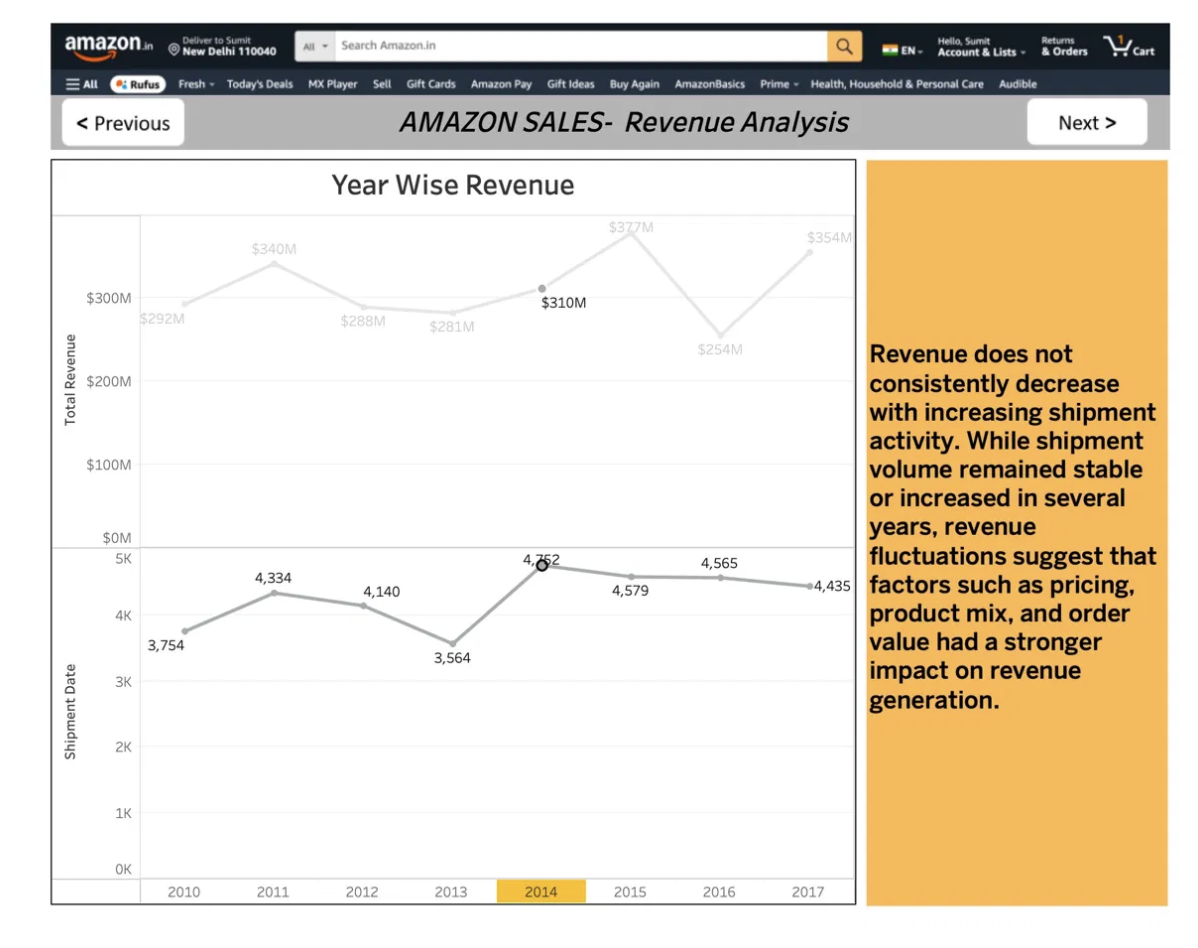

Layout of this report page (visuals, bound fields, positions):
{"tool":"tableau","page":{"name":"Revenue Analysis","canvas":[1000,800],"ordinal":3},"visuals":[{"type":"image","param":"/Users/sumitbhandari/Desktop/Screenshot 2026-05-27 at 1.45.00 PM.png","box":[8,5,981,70]},{"type":"blank","box":[8,68,981,48]},{"type":"dashboard-object","box":[9,70,126,48]},{"type":"text","box":[252,70,518,41]},{"type":"dashboard-object","box":[841,70,151,47]},{"type":"worksheet","title":"Sheet 11","mark":"Automatic","rows":["Total Revenue","Calculation_4108949745565698"],"cols":["Ship Date"],"box":[8,124,706,653]},{"type":"text","box":[723,125,264,653]}]}

Visuals, with their boxes on the page's 1000x800 design canvas (x1, y1, x2, y2). These are canvas units, not pixel positions in the 1198x948 screenshot, which may show the page scaled, cropped or inside an application window:
image: (8,5,989,75)
blank: (8,68,989,116)
dashboard-object: (9,70,135,118)
text: (252,70,770,111)
dashboard-object: (841,70,992,117)
"Sheet 11" worksheet: (8,124,714,777)
text: (723,125,987,778)
